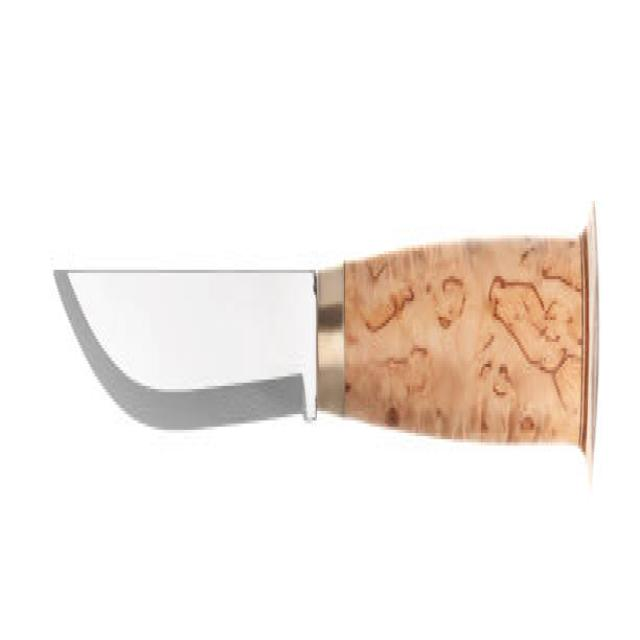knife: (47, 202, 601, 491)
